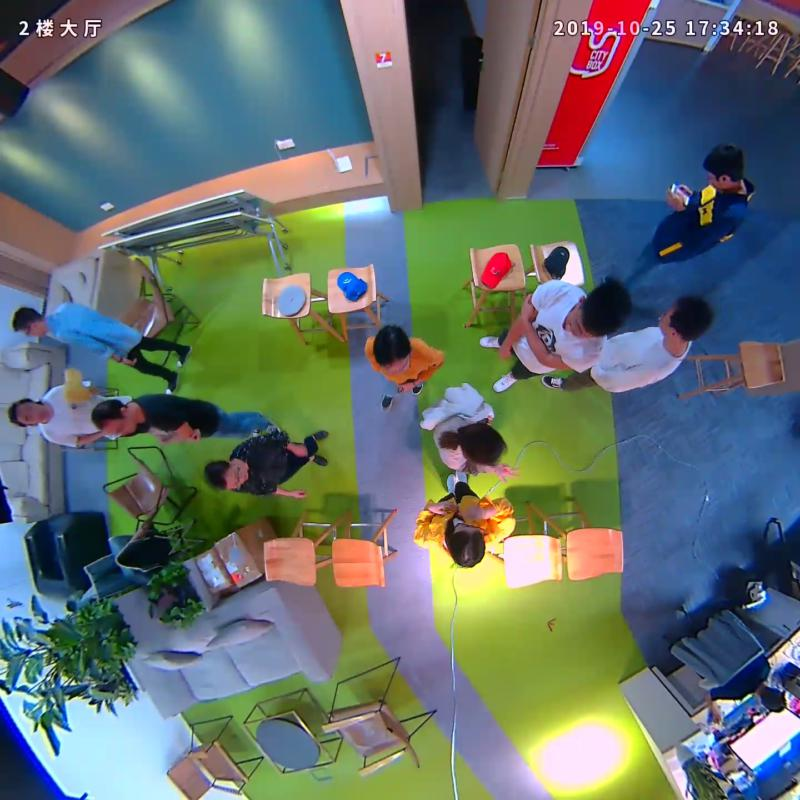head: (568, 284, 629, 340), (660, 295, 713, 341), (702, 143, 744, 191), (460, 423, 505, 466), (372, 325, 411, 374), (90, 399, 137, 436), (450, 522, 485, 568), (203, 458, 249, 491), (7, 397, 48, 426), (12, 305, 46, 337)
